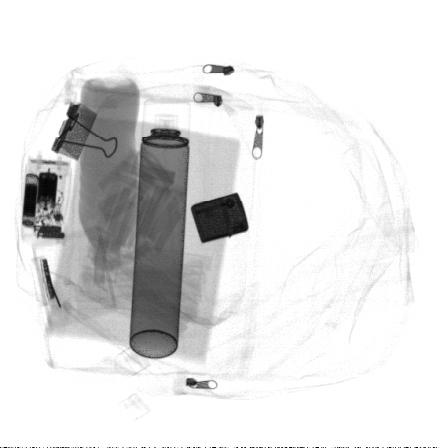Lighter: (191, 193, 248, 244)
Sprayer: (129, 96, 191, 359)
